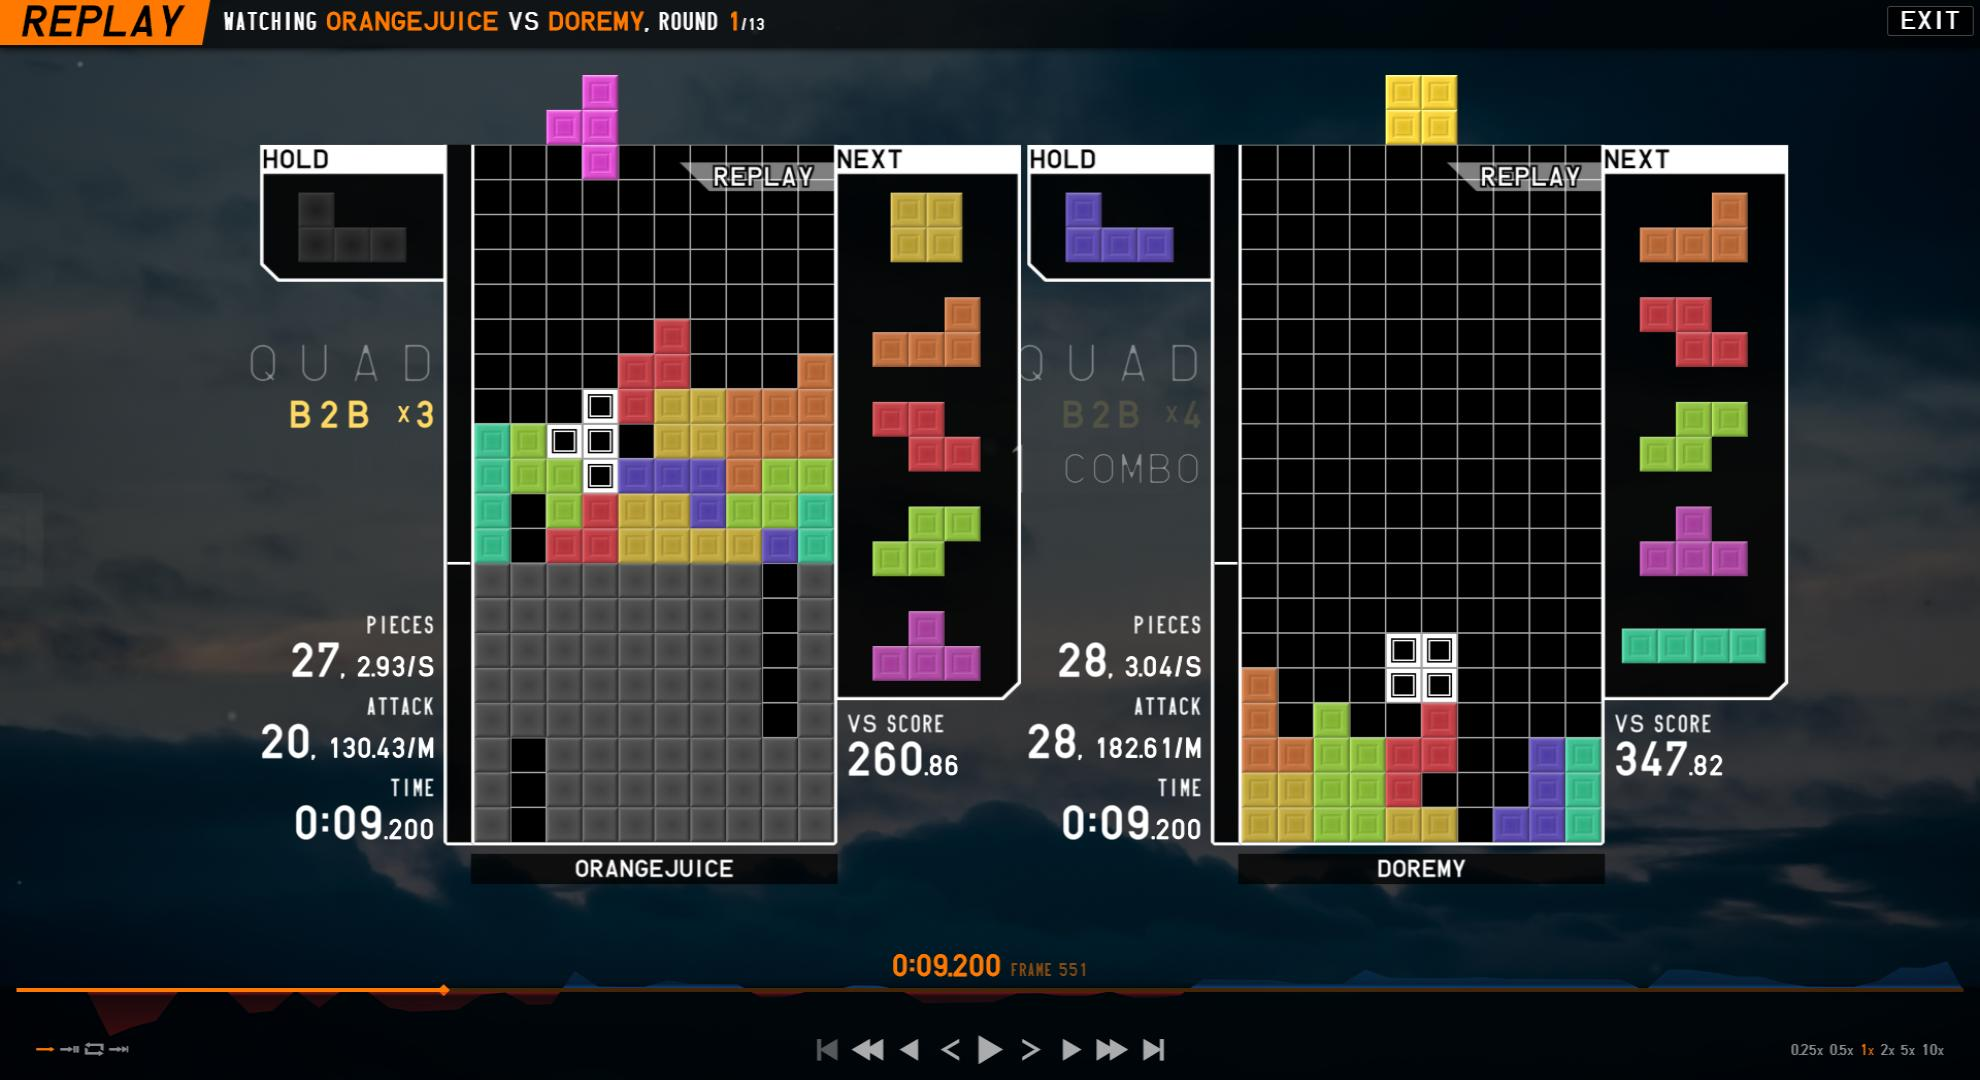tspin: (1416, 738, 1532, 845), (549, 390, 661, 497)
